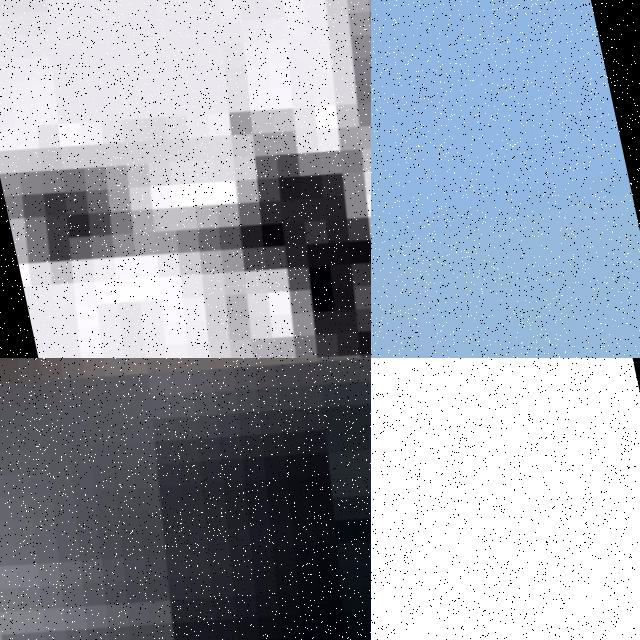drone: (0, 0, 371, 358), (0, 358, 371, 640)
